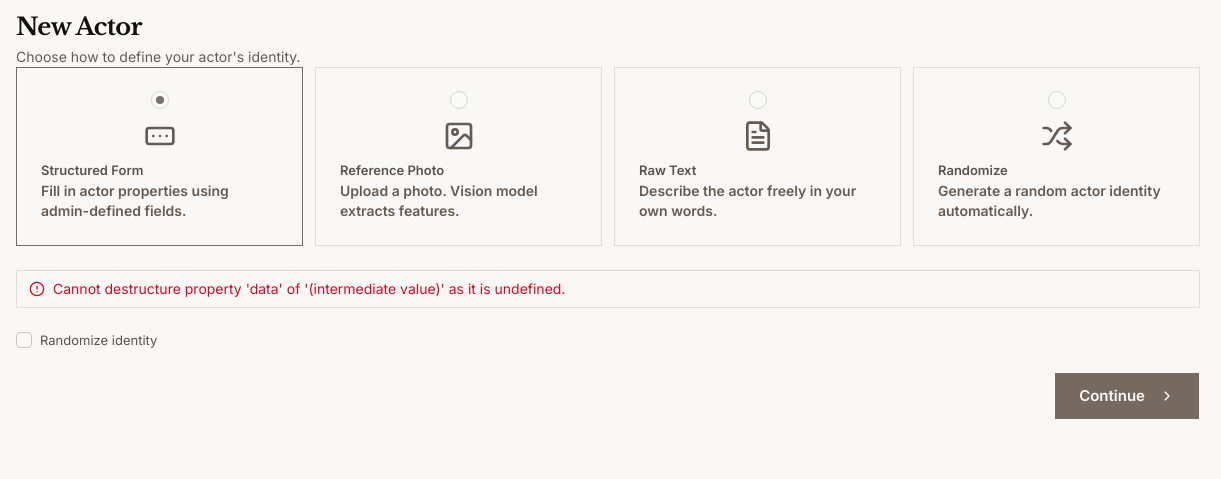
ActorDesigner — Stage 1: Entry Method Selection › shows error message when actor creation fails
Click the button "Continue".
click(1127, 396)  # box [1054,372,1200,420]
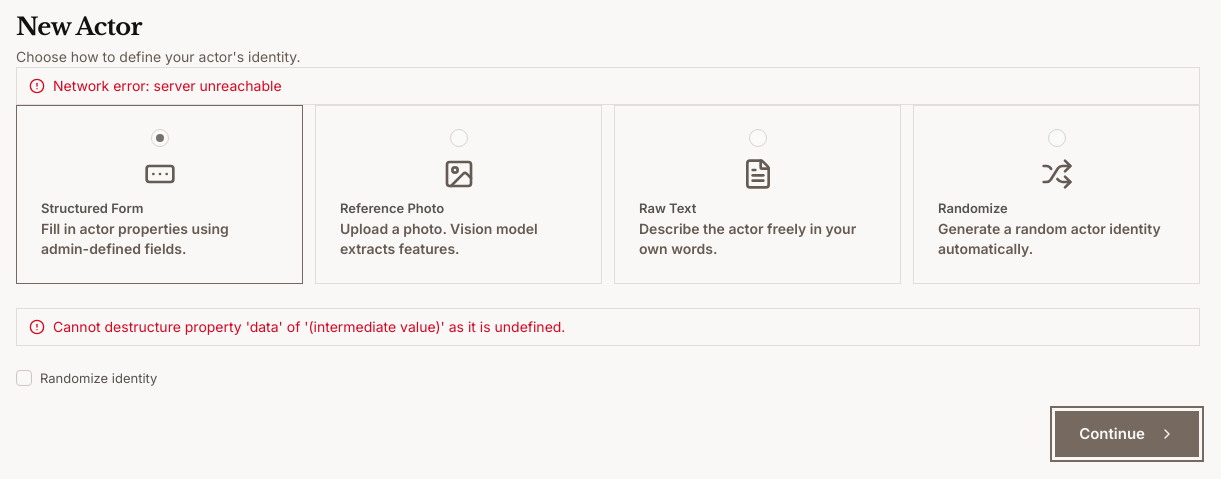
Now the text "Network error: server unreachable" is shown, box [53,76,282,96]
